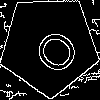O: (24, 20, 82, 79)
